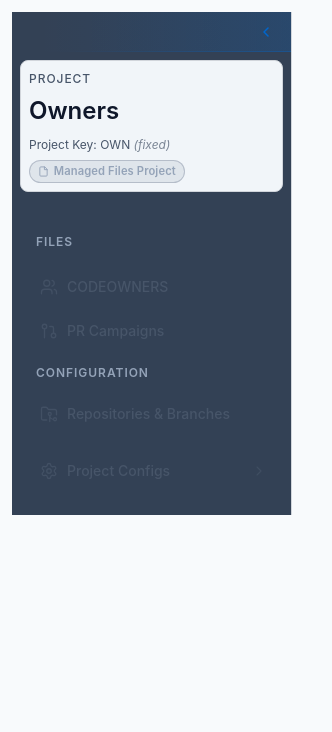
Sidebar › a Managed Files project (#2367) › keeps PR Campaigns and the Project Configs a project has
Click the button "Project Configs".
click(152, 471)  # box [12, 451, 291, 491]
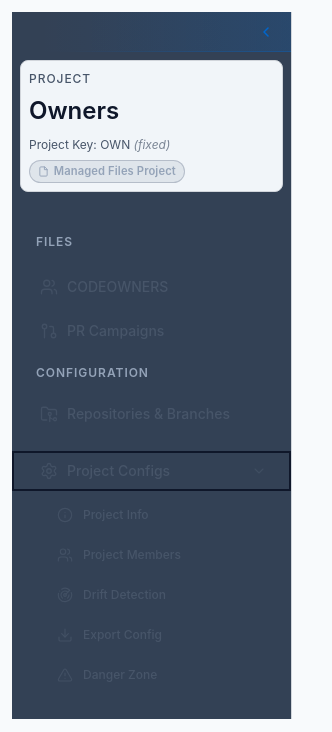
Result: the button "Project Info" is shown at [12, 495, 291, 535]
Result: the button "Project Members" is shown at [12, 535, 291, 575]
Result: the button "Drift Detection" is shown at [12, 575, 291, 615]
